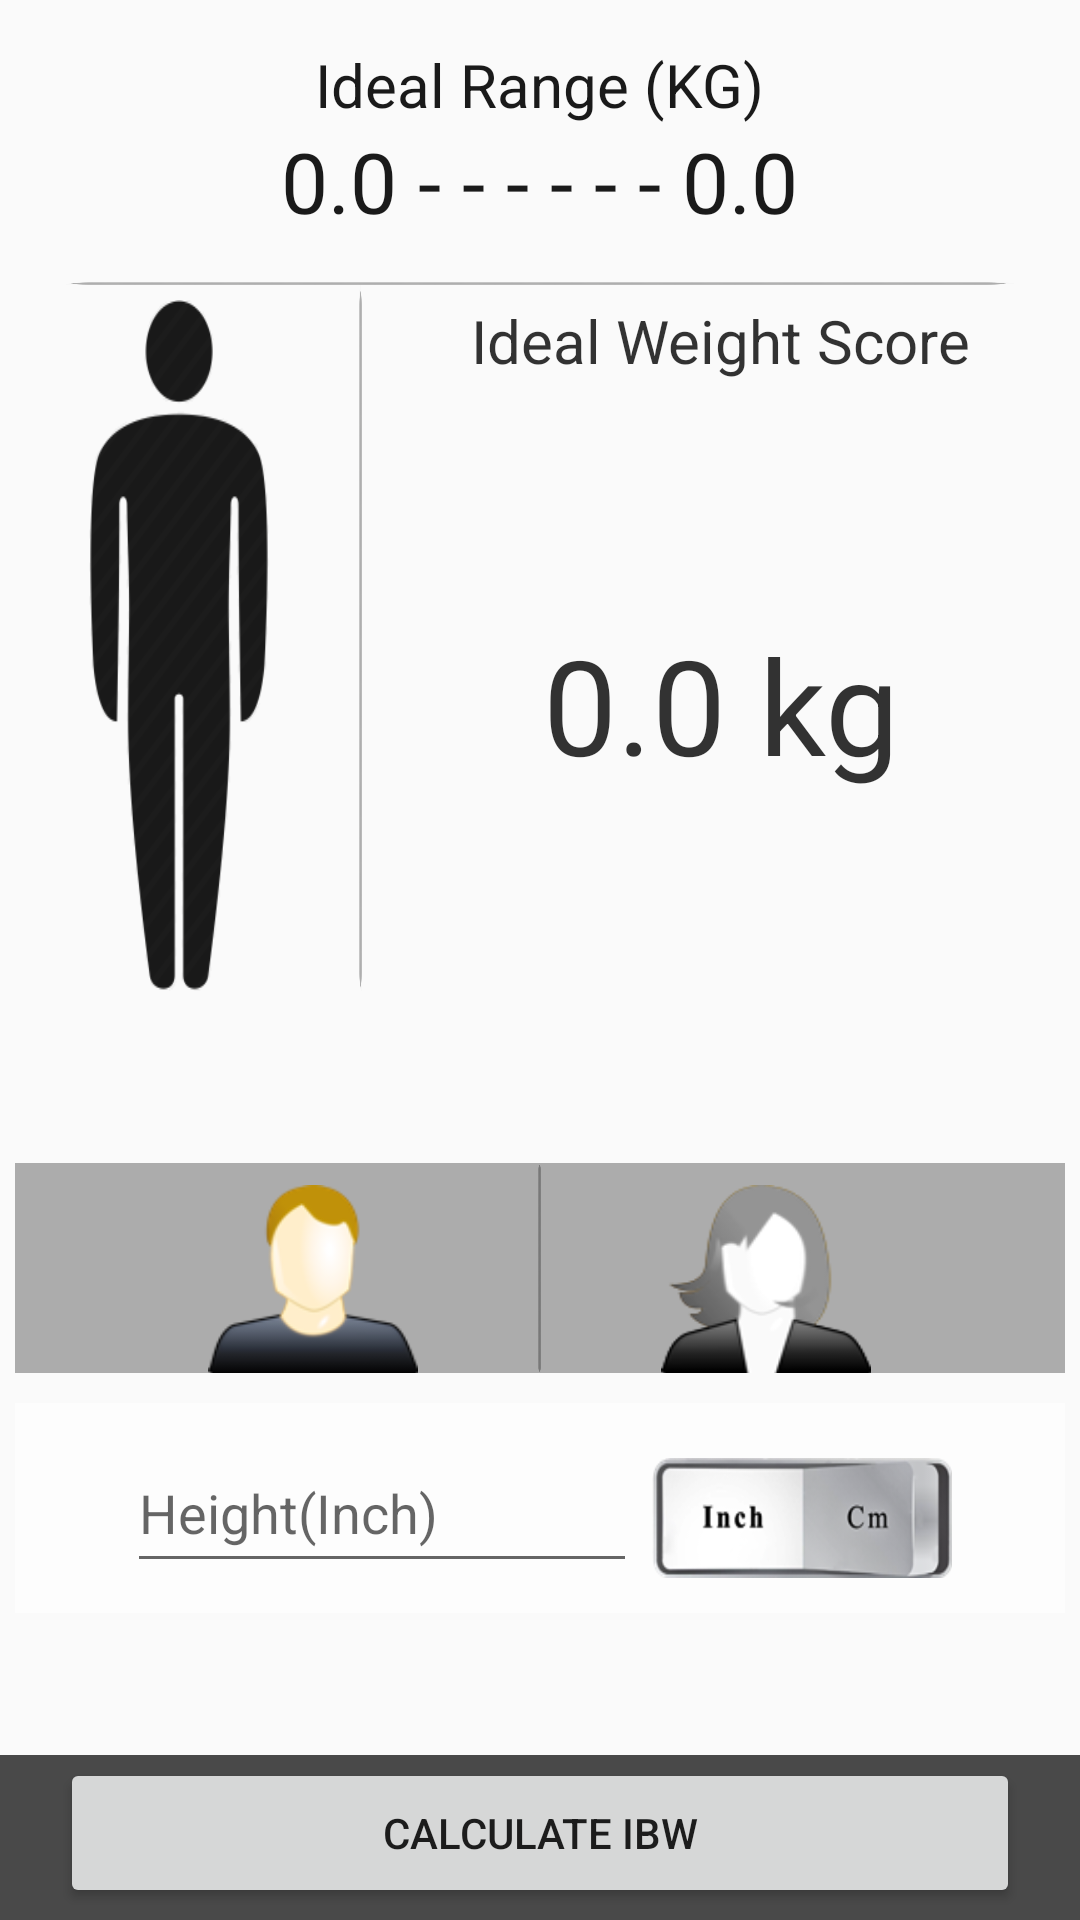

Icon click points for this 1080×1920 phone screenshot, format (x,y):
female: (766,1279)
male select: (313,1279)
switch ft: (802,1518)
